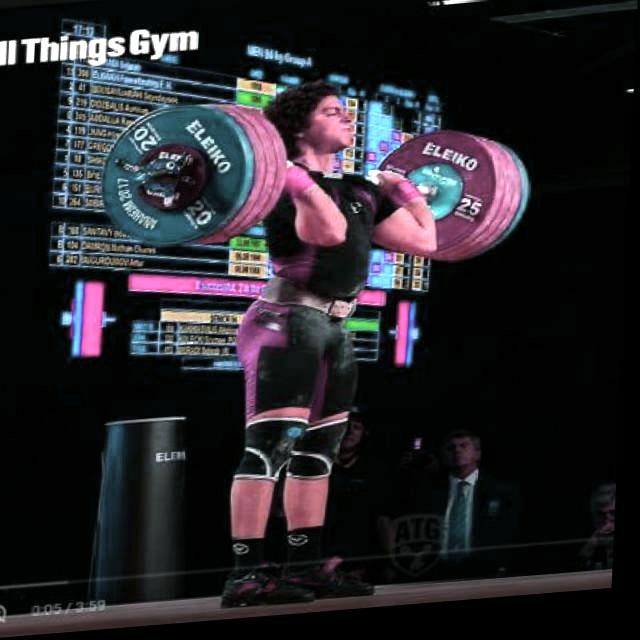barbell: (93, 103, 262, 258)
